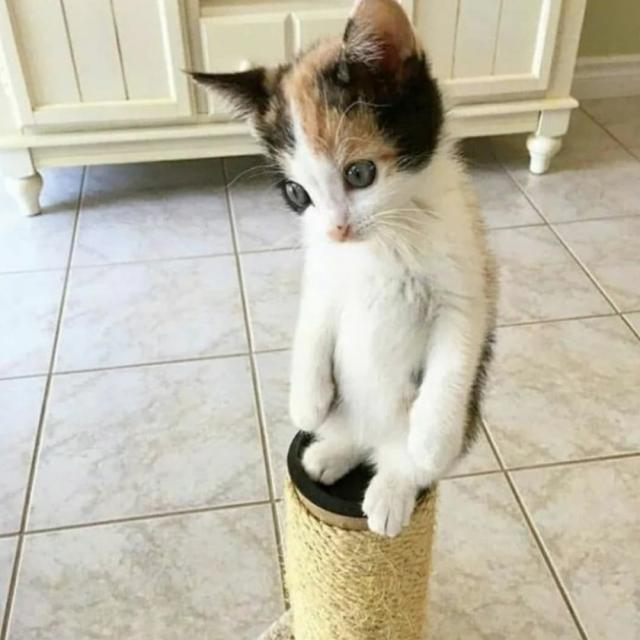da khoe manh: (316, 253, 472, 473)
